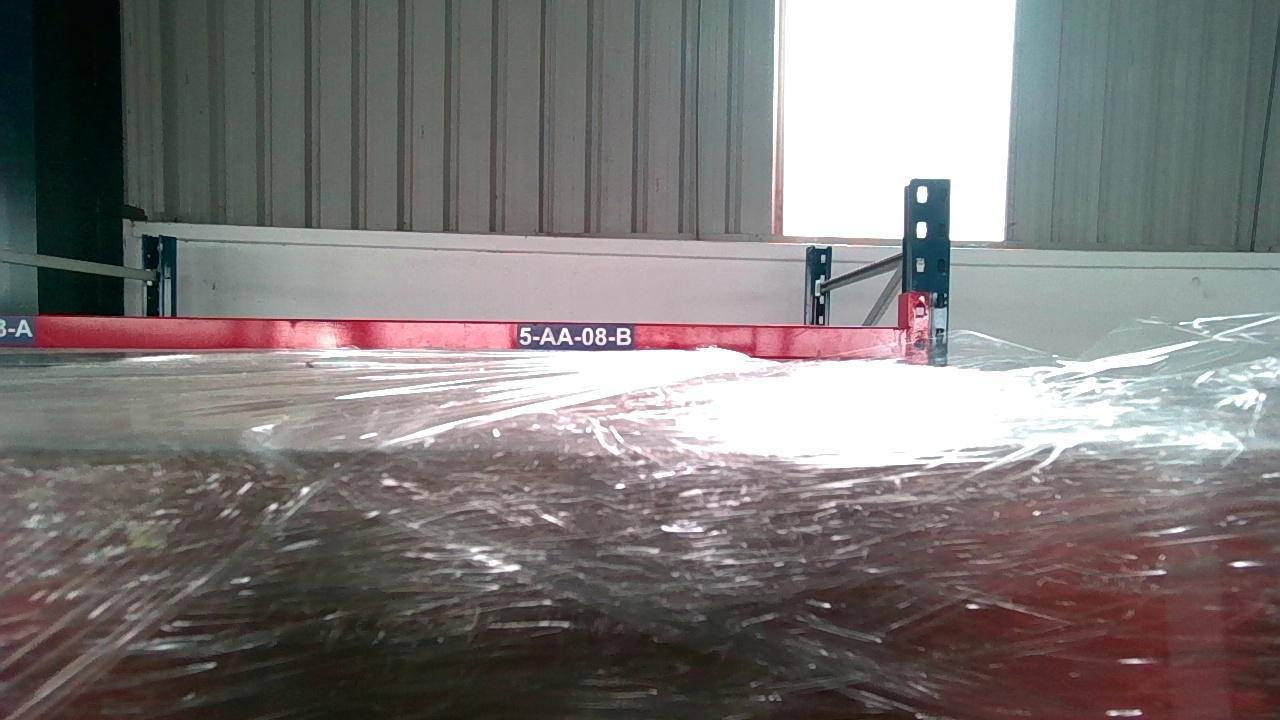h_rack: (0, 313, 904, 361)
